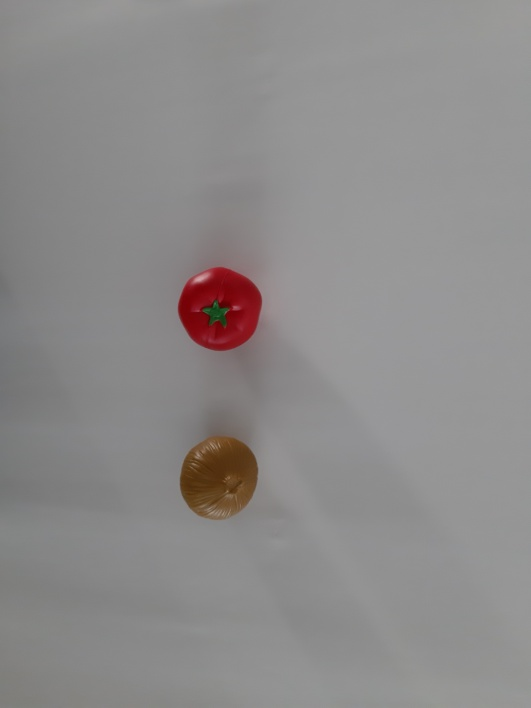onion: (160, 424, 272, 532)
tomato: (153, 251, 277, 369)
